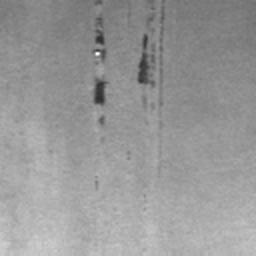Slag inclusion: (134, 0, 168, 131), (91, 12, 108, 64), (90, 74, 110, 106), (125, 0, 132, 33), (96, 114, 106, 125), (92, 0, 104, 8)
